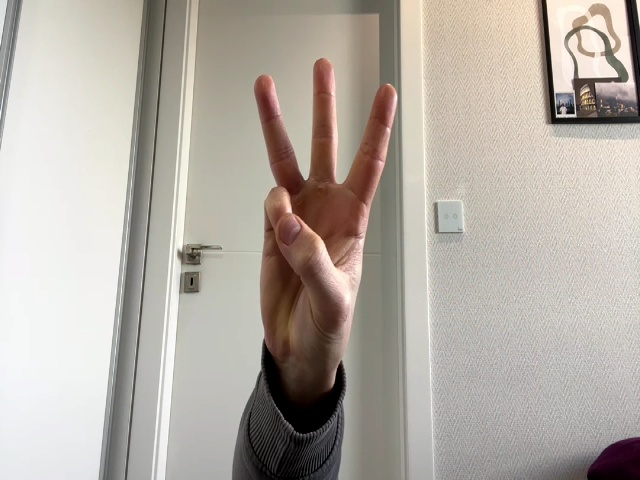W: (254, 58, 398, 364)
